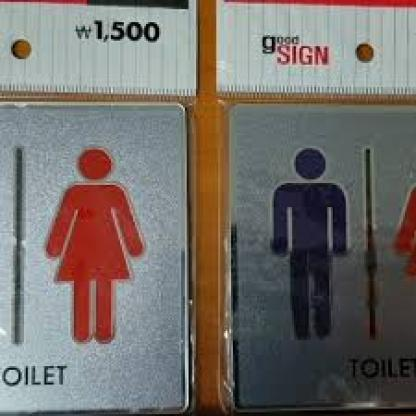toilet: (44, 145, 149, 349), (268, 148, 354, 339)
